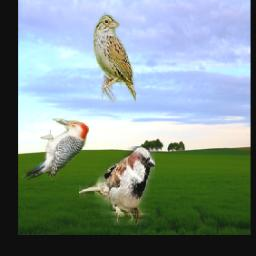Sparrow: (79, 147, 155, 226), (93, 12, 135, 104)
Woodpecker: (18, 116, 88, 182)
